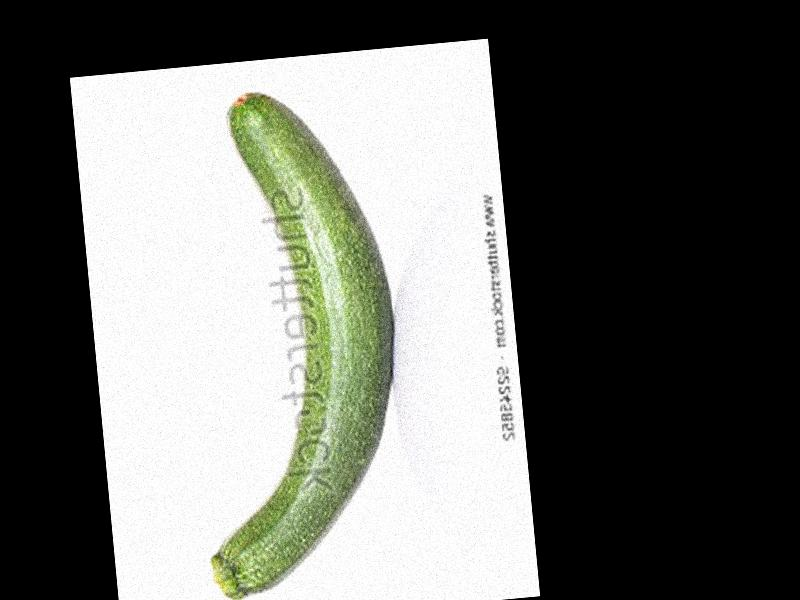Cucumber: (167, 82, 416, 599)
